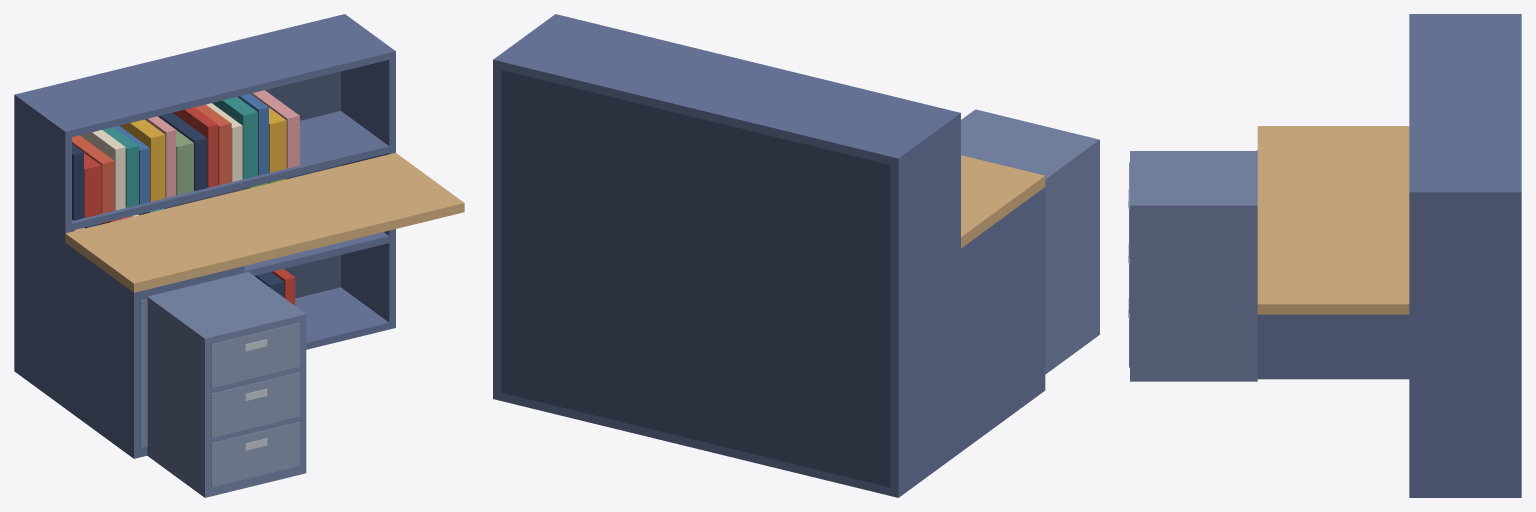
File: corner_fold_desk.glb
3 renders of one model, left to right at view 1: azimuth 30°, elevation 25°; view 2: azimuth 150°, elevation 25°; view 3: azimuth 270°, elevation 25°, orthographic. The views are drawn at different scales.
Parts seen in each view (by area): view 1: corner_fold_desk_Body, corner_fold_desk_Leaf; view 2: corner_fold_desk_Body, corner_fold_desk_Leaf; view 3: corner_fold_desk_Body, corner_fold_desk_Leaf.
Boxes of the visible parts, bbox=[...] form: corner_fold_desk_Body: bbox=[14, 14, 464, 458]; corner_fold_desk_Leaf: bbox=[147, 272, 306, 497]; corner_fold_desk_Body: bbox=[493, 14, 1045, 497]; corner_fold_desk_Leaf: bbox=[961, 109, 1099, 374]; corner_fold_desk_Body: bbox=[1256, 14, 1521, 497]; corner_fold_desk_Leaf: bbox=[1128, 151, 1257, 381].
Size of the model in its own units: 1.5 by 1.2 by 1.4.
